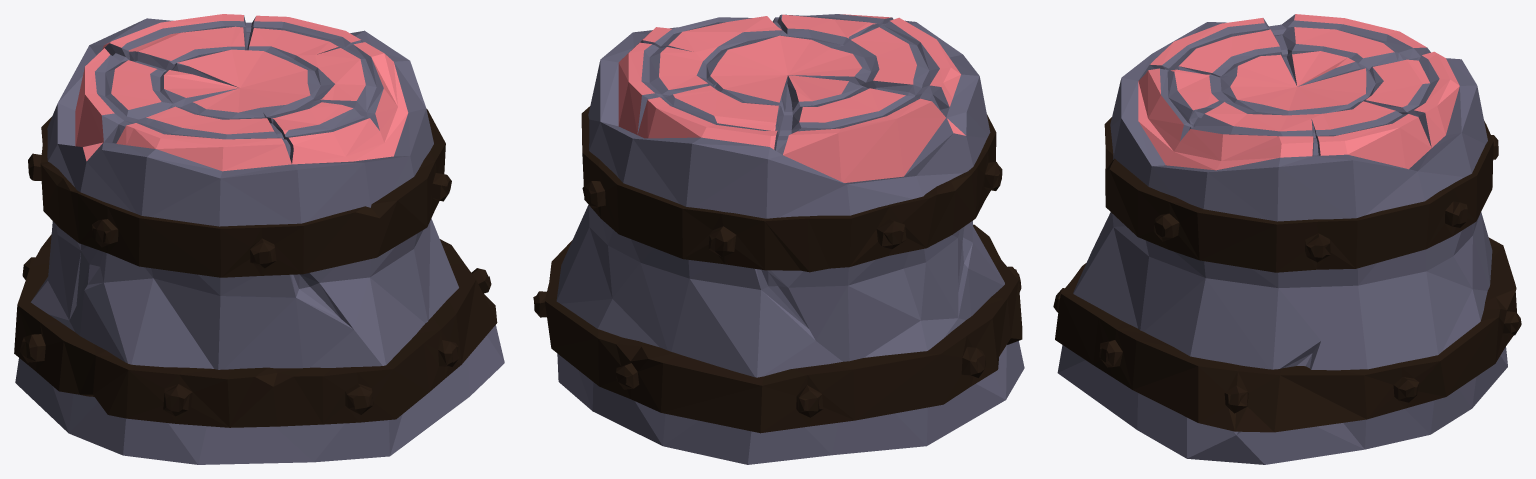
The model's file is SFFA_Log_002.fbx.
The picture shows the model from 3 angles, left to right: view 1: azimuth 30°, elevation 25°; view 2: azimuth 150°, elevation 25°; view 3: azimuth 270°, elevation 25°; orthographic projection. The views are drawn at different scales.
Parts seen in each view (by area): view 1: SFFA_Log_002; view 2: SFFA_Log_002; view 3: SFFA_Log_002.
Boxes of the visible parts, <box> form: SFFA_Log_002: <box>14,14,504,464</box>; SFFA_Log_002: <box>533,14,1024,464</box>; SFFA_Log_002: <box>1053,14,1521,464</box>.
Bounding box in the file's own units: 96.38 × 63.11 × 94.53.
